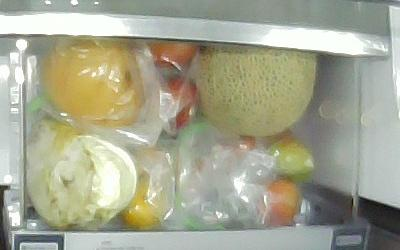cabbage_vinyl: (27, 118, 137, 231)
melon: (198, 43, 316, 136)
pear_vinyl: (39, 40, 144, 127)
prune_vinyl: (162, 75, 199, 129), (147, 39, 198, 68)
tangerine_vinyl: (122, 175, 167, 230)
tomato_vinyl: (264, 129, 313, 184), (258, 175, 301, 227)
